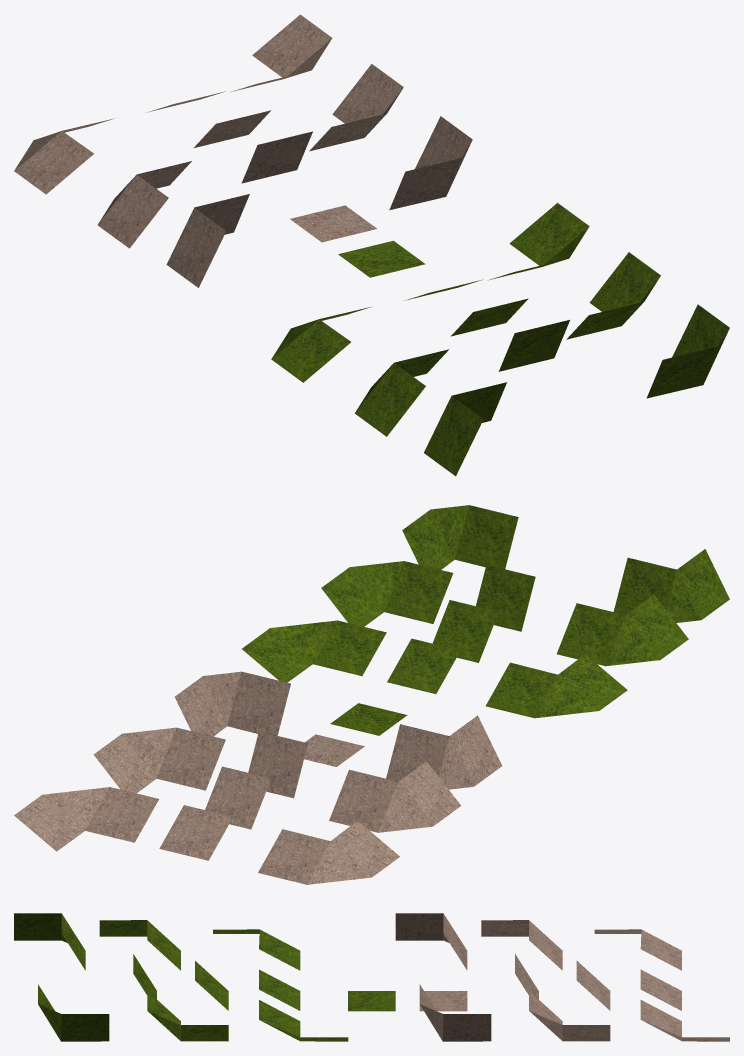
Rendered from hillsTileset.glb.
3 views of the same model, one above another, from view 1: azimuth 30°, elevation 25°; view 2: azimuth 150°, elevation 25°; view 3: azimuth 270°, elevation 25° (orthographic). The views are drawn at different scales.
Visible parts, largest first — view 1: Plane.014-col, Plane.012-col, Plane.020-col, Plane.018-col, Plane.011-col, Plane.017-col, Plane.013-col, Plane.019-col, Plane.001-col, Plane.009-col, Plane.016-col, Plane.015-col (+6 smaller); view 2: Plane.011-col, Plane.013-col, Plane.019-col, Plane.017-col, Plane.001-col, Plane.009-col, Plane.014-col, Plane.012-col, Plane.015-col, Plane.016-col, Plane.018-col, Plane.020-col (+8 smaller); view 3: Plane.012-col, Plane.018-col, Plane.014-col, Plane.020-col, Plane.019-col, Plane.011-col, Plane.017-col, Plane.013-col, Plane.009-col, Plane.001-col, Plane.015-col, Plane.016-col (+8 smaller).
Part boxes in pixels (x1,y1,x2,y2): Plane.014-col: [646, 304, 729, 398]; Plane.012-col: [389, 116, 472, 210]; Plane.020-col: [424, 382, 506, 476]; Plane.018-col: [166, 194, 249, 287]; Plane.011-col: [309, 64, 403, 151]; Plane.017-col: [97, 161, 191, 248]; Plane.013-col: [566, 252, 660, 339]; Plane.019-col: [354, 349, 448, 436]; Plane.001-col: [230, 14, 332, 92]; Plane.009-col: [488, 203, 589, 280]; Plane.016-col: [14, 118, 113, 194]; Plane.015-col: [271, 307, 370, 382]; Plane.011-col: [93, 727, 225, 793]; Plane.013-col: [321, 561, 453, 626]; Plane.019-col: [557, 594, 688, 666]; Plane.017-col: [329, 761, 460, 832]; Plane.001-col: [14, 787, 158, 851]; Plane.009-col: [242, 620, 386, 682]; Plane.014-col: [402, 505, 518, 569]; Plane.012-col: [175, 671, 290, 736]; Plane.015-col: [486, 654, 627, 718]; Plane.016-col: [258, 820, 399, 884]; Plane.018-col: [386, 715, 502, 789]; Plane.020-col: [613, 549, 729, 622]; Plane.012-col: [419, 984, 491, 1041]; Plane.018-col: [395, 913, 467, 970]; Plane.014-col: [38, 984, 109, 1041]; Plane.020-col: [14, 913, 85, 970]; Plane.019-col: [99, 920, 180, 970]; Plane.011-col: [529, 991, 610, 1041]; Plane.017-col: [481, 920, 562, 970]; Plane.013-col: [147, 991, 228, 1041]; Plane.009-col: [259, 1000, 348, 1041]; Plane.001-col: [640, 1000, 729, 1041]; Plane.015-col: [213, 929, 300, 970]; Plane.016-col: [594, 929, 681, 970].
Size of the model in its own units: 12.41 by 1.73 by 30.01.
Materials: 1 (1 with a texture image).
